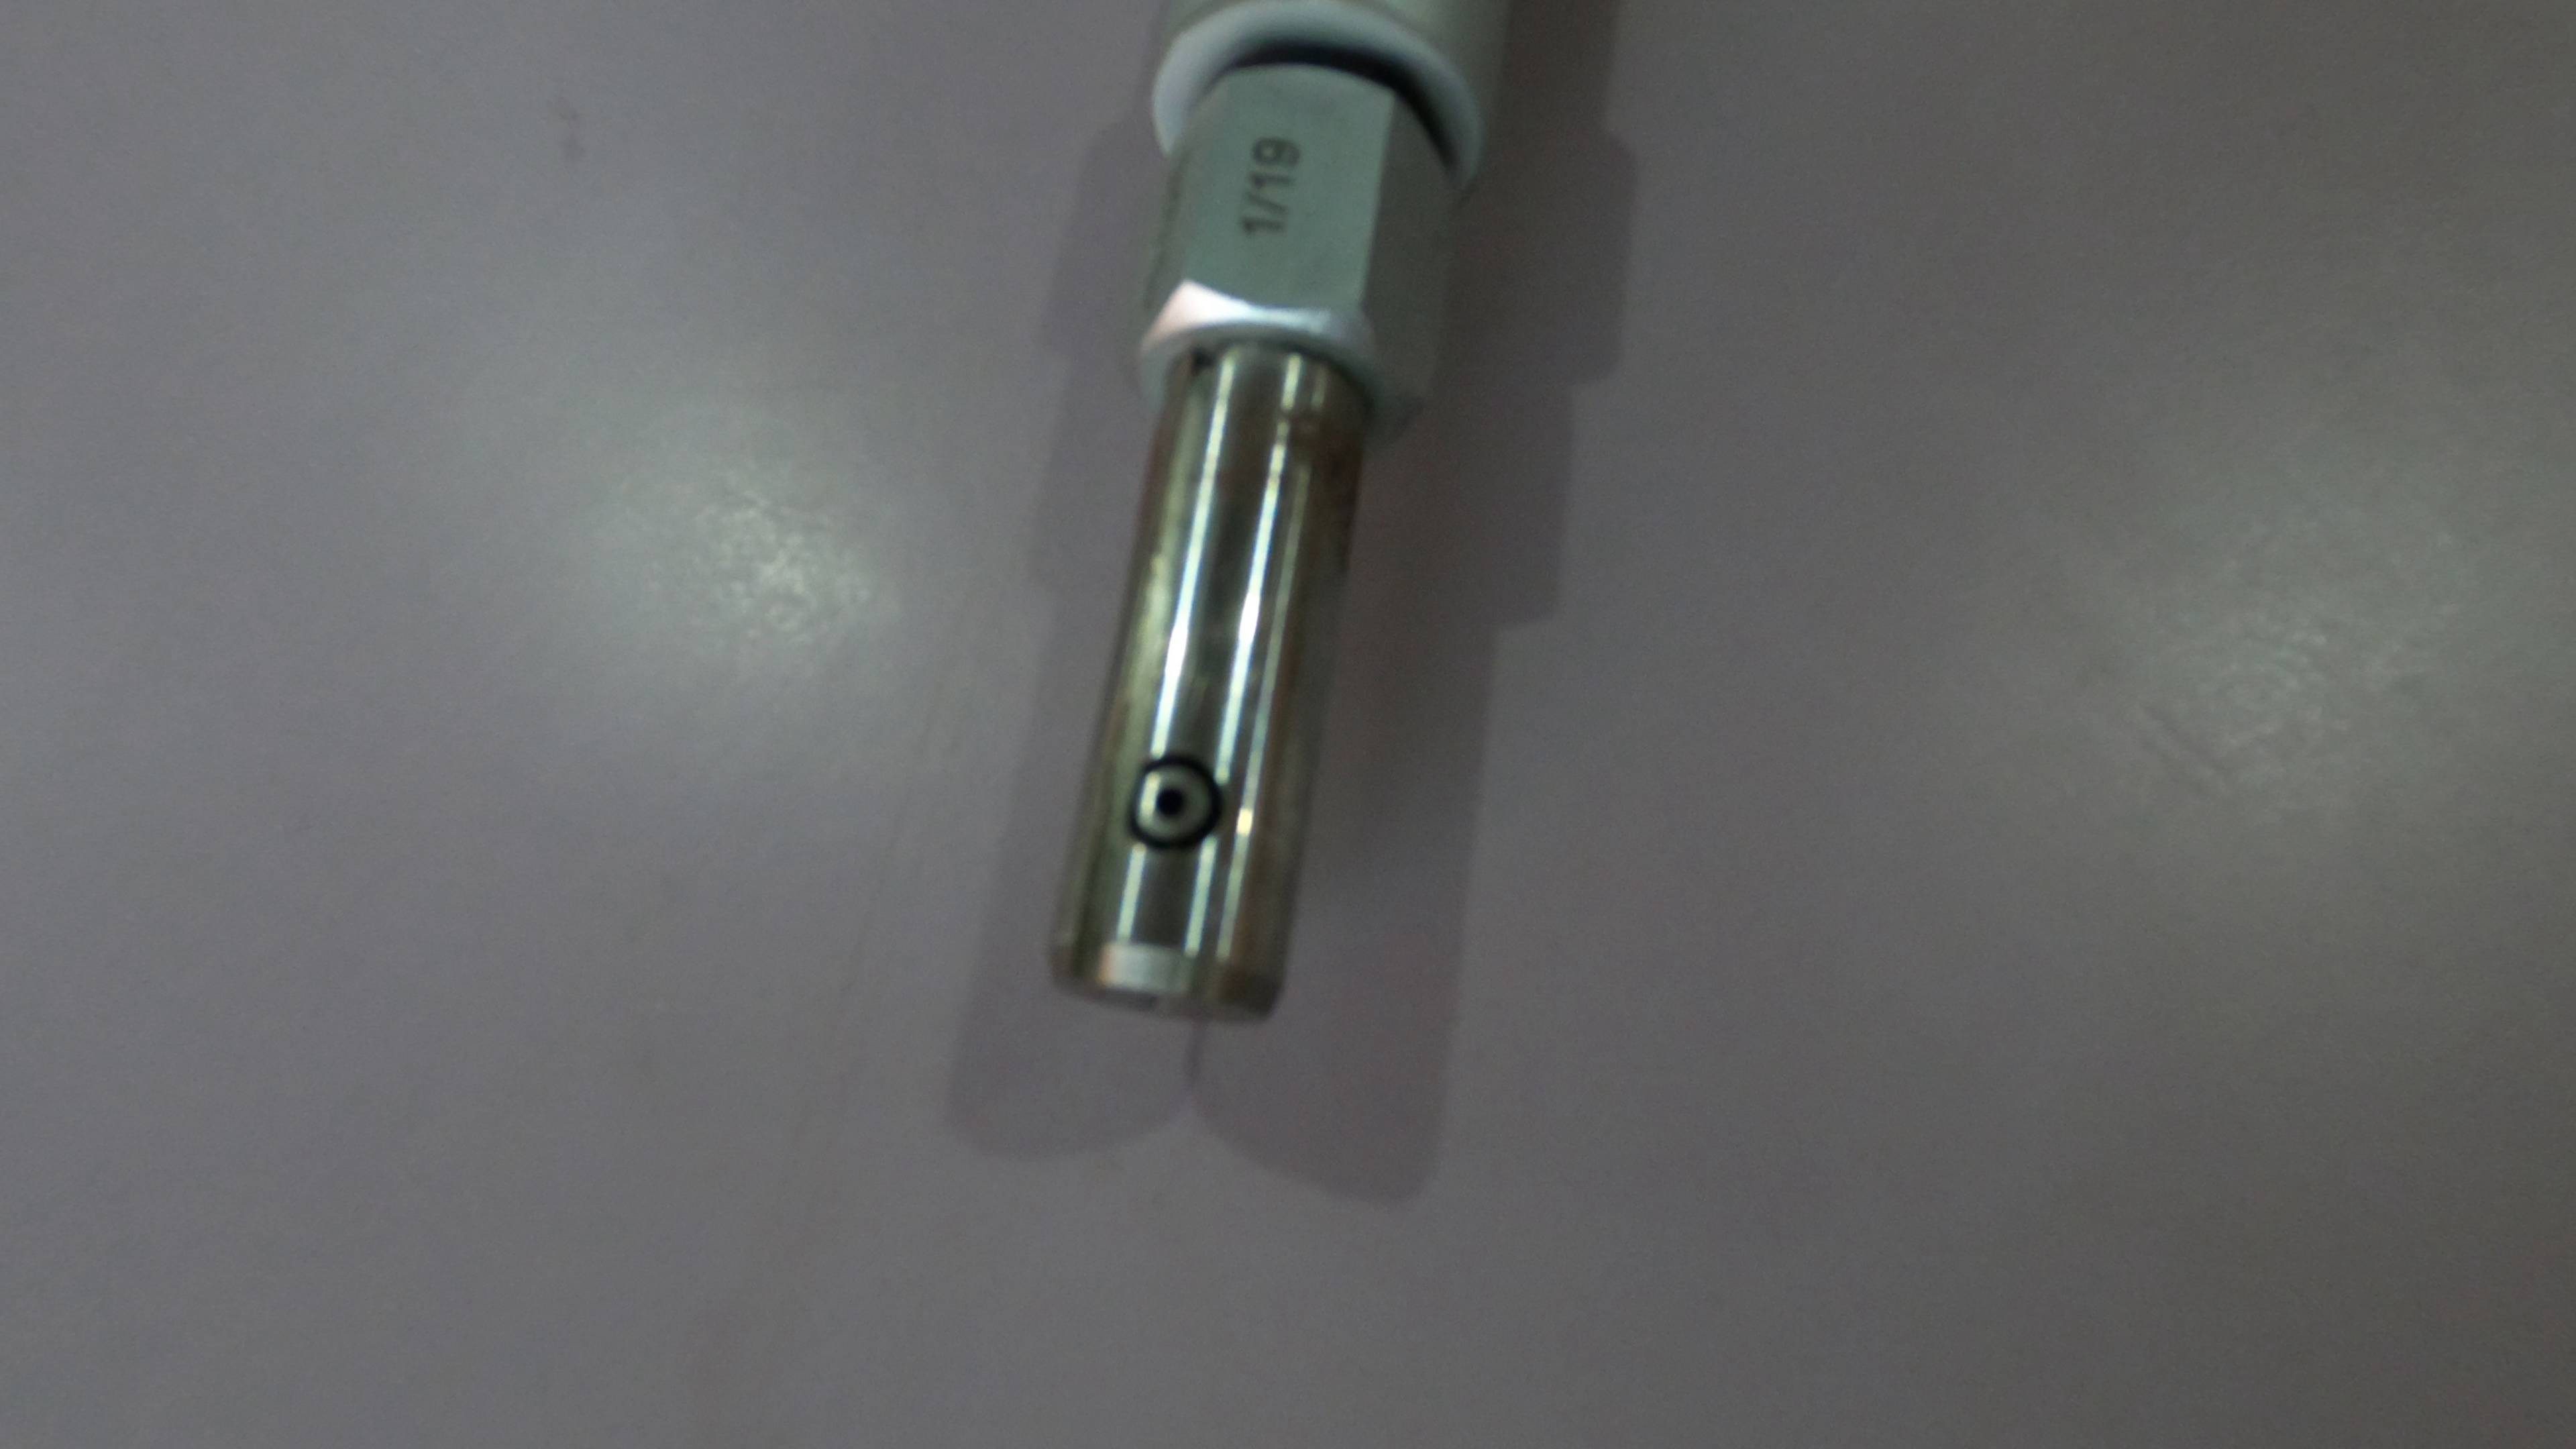air_gauge: (1037, 7, 1536, 1035)
